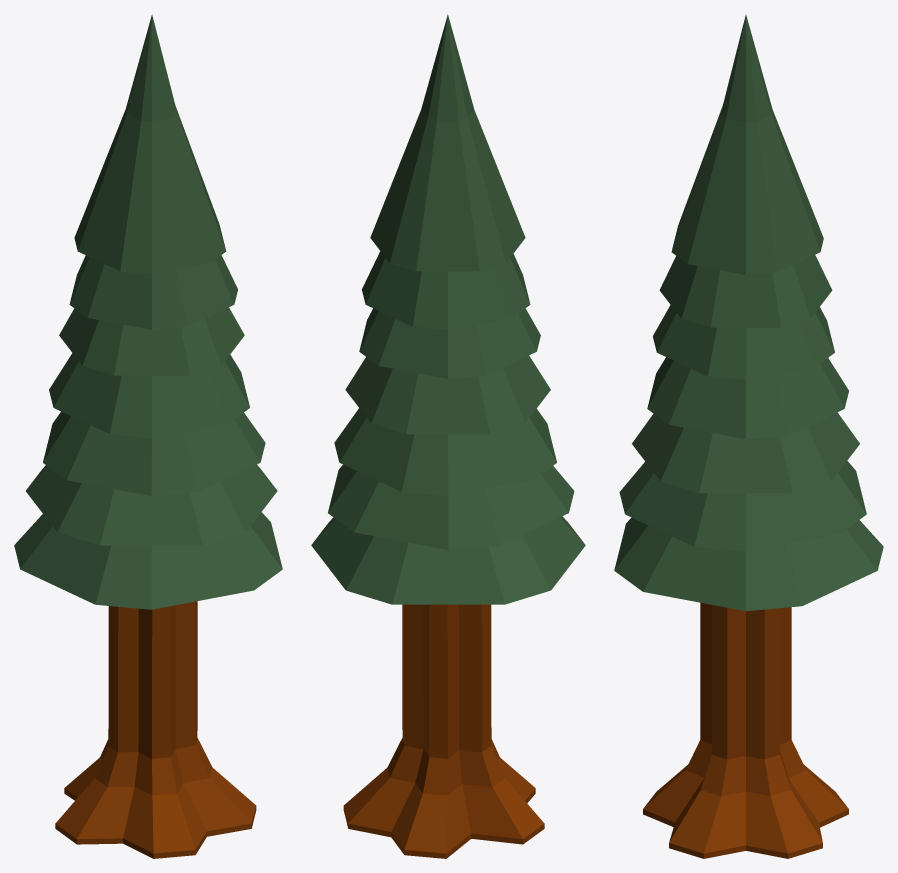
Rendered from Tall Tree.fbx.
3 views of the same model, side by side, from view 1: azimuth 30°, elevation 25°; view 2: azimuth 150°, elevation 25°; view 3: azimuth 270°, elevation 25° (orthographic).
Visible parts, largest first — view 1: Tall_Tree1; view 2: Tall_Tree1; view 3: Tall_Tree1.
Boxes of the visible parts, <box> form: Tall_Tree1: <box>14,14,282,858</box>; Tall_Tree1: <box>311,14,585,858</box>; Tall_Tree1: <box>614,15,883,858</box>.
Size of the model in its own units: 3.73 by 12.09 by 3.67.
